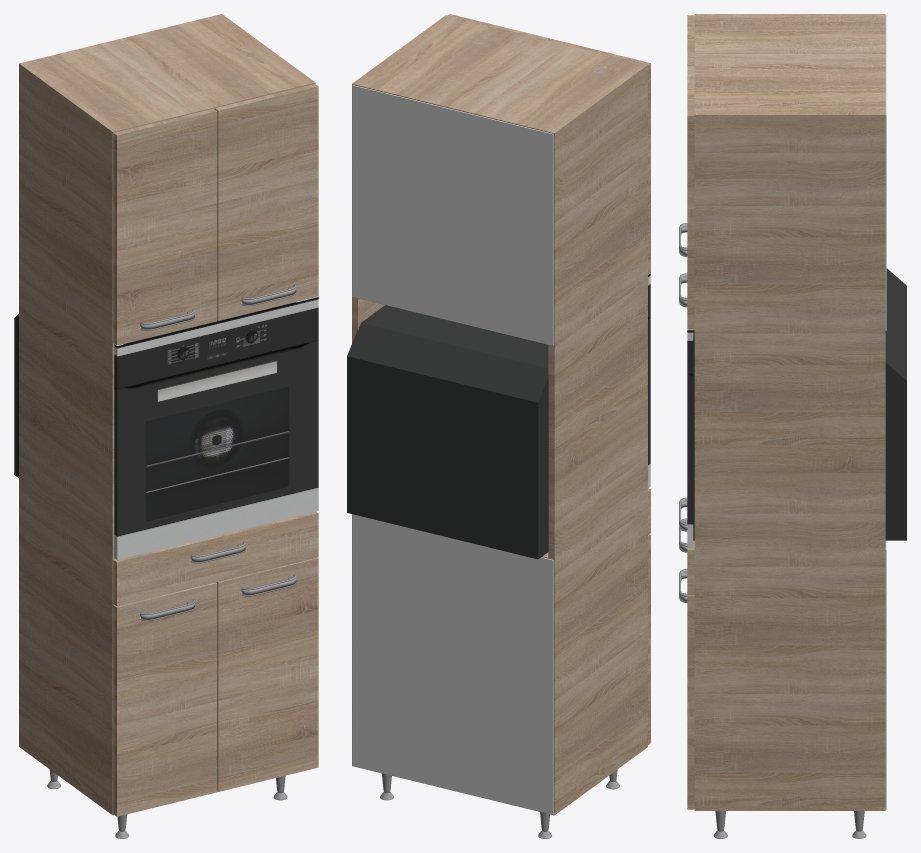
The model's file is s_asz4a1f_60_60.glb.
3 renders of one model, left to right at view 1: azimuth 30°, elevation 25°; view 2: azimuth 150°, elevation 25°; view 3: azimuth 270°, elevation 25°, orthographic. The views are drawn at different scales.
Parts seen in each view (by area): view 1: s_asz4a1f_60_60_korpusz, s_asztm_60_suto.001, s_asz4a1f_60_60_ajto_3, s_asz4a1f_60_60_ajto_1, s_asz4a1f_60_60_ajto_4, s_asz4a1f_60_60_ajto_2, s_asz4a1f_60_60_fiok_1; view 2: s_asz4a1f_60_60_korpusz, s_asztm_60_suto.001, s_asz4a1f_60_60_ajto_3, s_asz4a1f_60_60_ajto_1; view 3: s_asz4a1f_60_60_korpusz, s_asztm_60_suto.001, s_asz4a1f_60_60_ajto_4, s_asz4a1f_60_60_ajto_2.
Boxes of the visible parts, left/top/right/bottom form: s_asz4a1f_60_60_korpusz: left=19, top=14, right=315, bottom=815; s_asztm_60_suto.001: left=14, top=296, right=318, bottom=559; s_asz4a1f_60_60_ajto_3: left=113, top=108, right=217, bottom=345; s_asz4a1f_60_60_ajto_1: left=113, top=582, right=217, bottom=816; s_asz4a1f_60_60_ajto_4: left=214, top=84, right=318, bottom=320; s_asz4a1f_60_60_ajto_2: left=216, top=557, right=318, bottom=791; s_asz4a1f_60_60_fiok_1: left=113, top=511, right=318, bottom=606; s_asz4a1f_60_60_korpusz: left=352, top=15, right=647, bottom=815; s_asztm_60_suto.001: left=347, top=273, right=650, bottom=559; s_asz4a1f_60_60_ajto_3: left=548, top=38, right=650, bottom=274; s_asz4a1f_60_60_ajto_1: left=648, top=534, right=650, bottom=744; s_asz4a1f_60_60_korpusz: left=694, top=14, right=886, bottom=810; s_asztm_60_suto.001: left=687, top=268, right=906, bottom=548; s_asz4a1f_60_60_ajto_4: left=687, top=65, right=694, bottom=329; s_asz4a1f_60_60_ajto_2: left=687, top=595, right=694, bottom=809.
Bounding box in the file's own units: 0.6 × 2.03 × 0.5725.
Materials: 7 (4 with a texture image).
